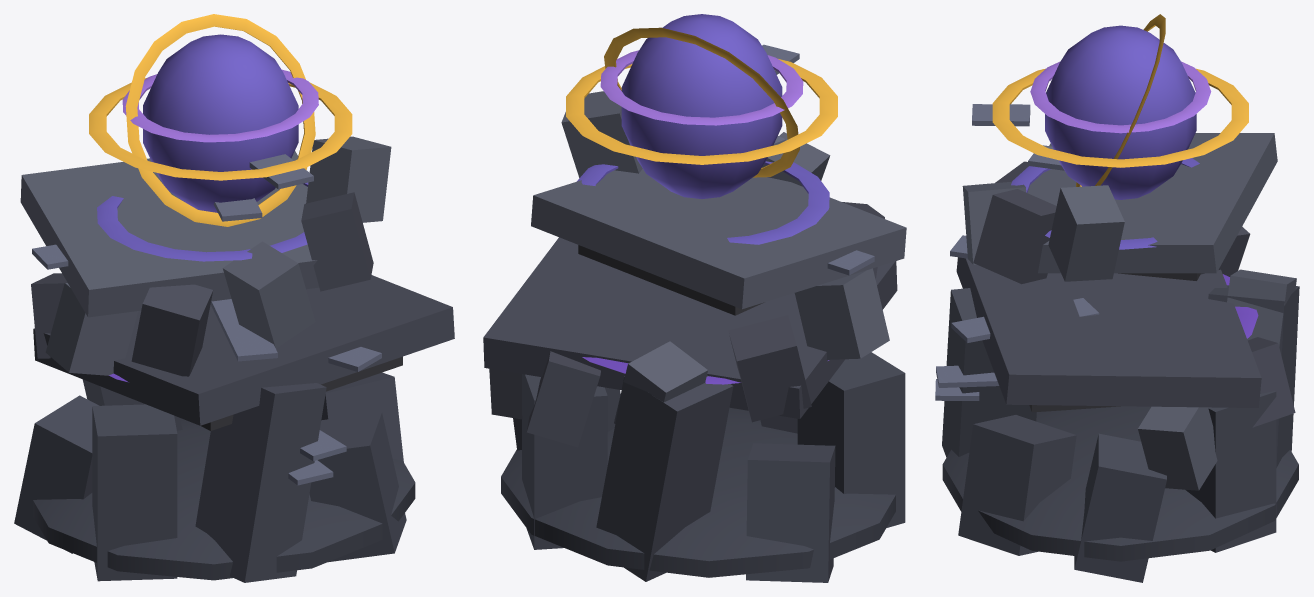
Rendered from riftling.glb.
The picture shows the model from 3 angles, left to right: view 1: azimuth 30°, elevation 25°; view 2: azimuth 150°, elevation 25°; view 3: azimuth 270°, elevation 25°; orthographic projection. The views are drawn at different scales.
Parts seen in each view (by area): view 1: Riftling; view 2: Riftling; view 3: Riftling.
Part boxes in pixels (bbox=[...]): Riftling: bbox=[14, 14, 454, 582]; Riftling: bbox=[483, 14, 906, 582]; Riftling: bbox=[935, 14, 1299, 582].
Size of the model in its own units: 2.5 by 3.4 by 2.33.
1 material, 1 textured.
